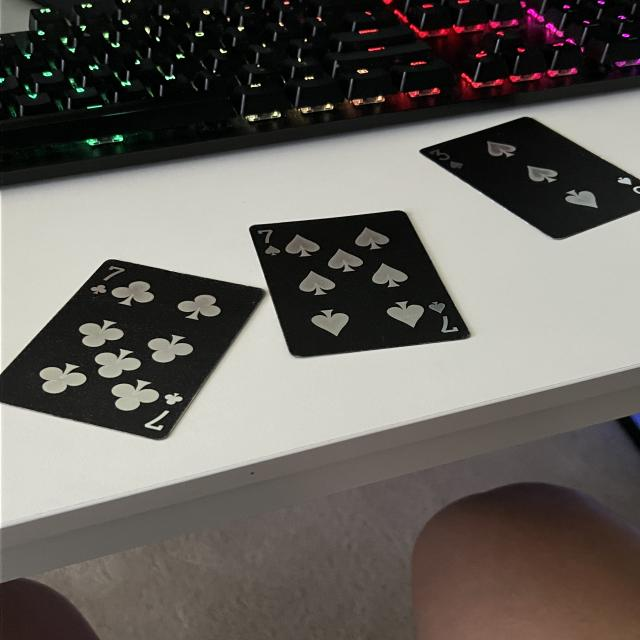3S: (426, 146, 466, 174), (611, 172, 640, 200)
7C: (142, 392, 182, 431), (91, 262, 125, 294)
7S: (426, 298, 468, 338), (256, 228, 283, 256)
